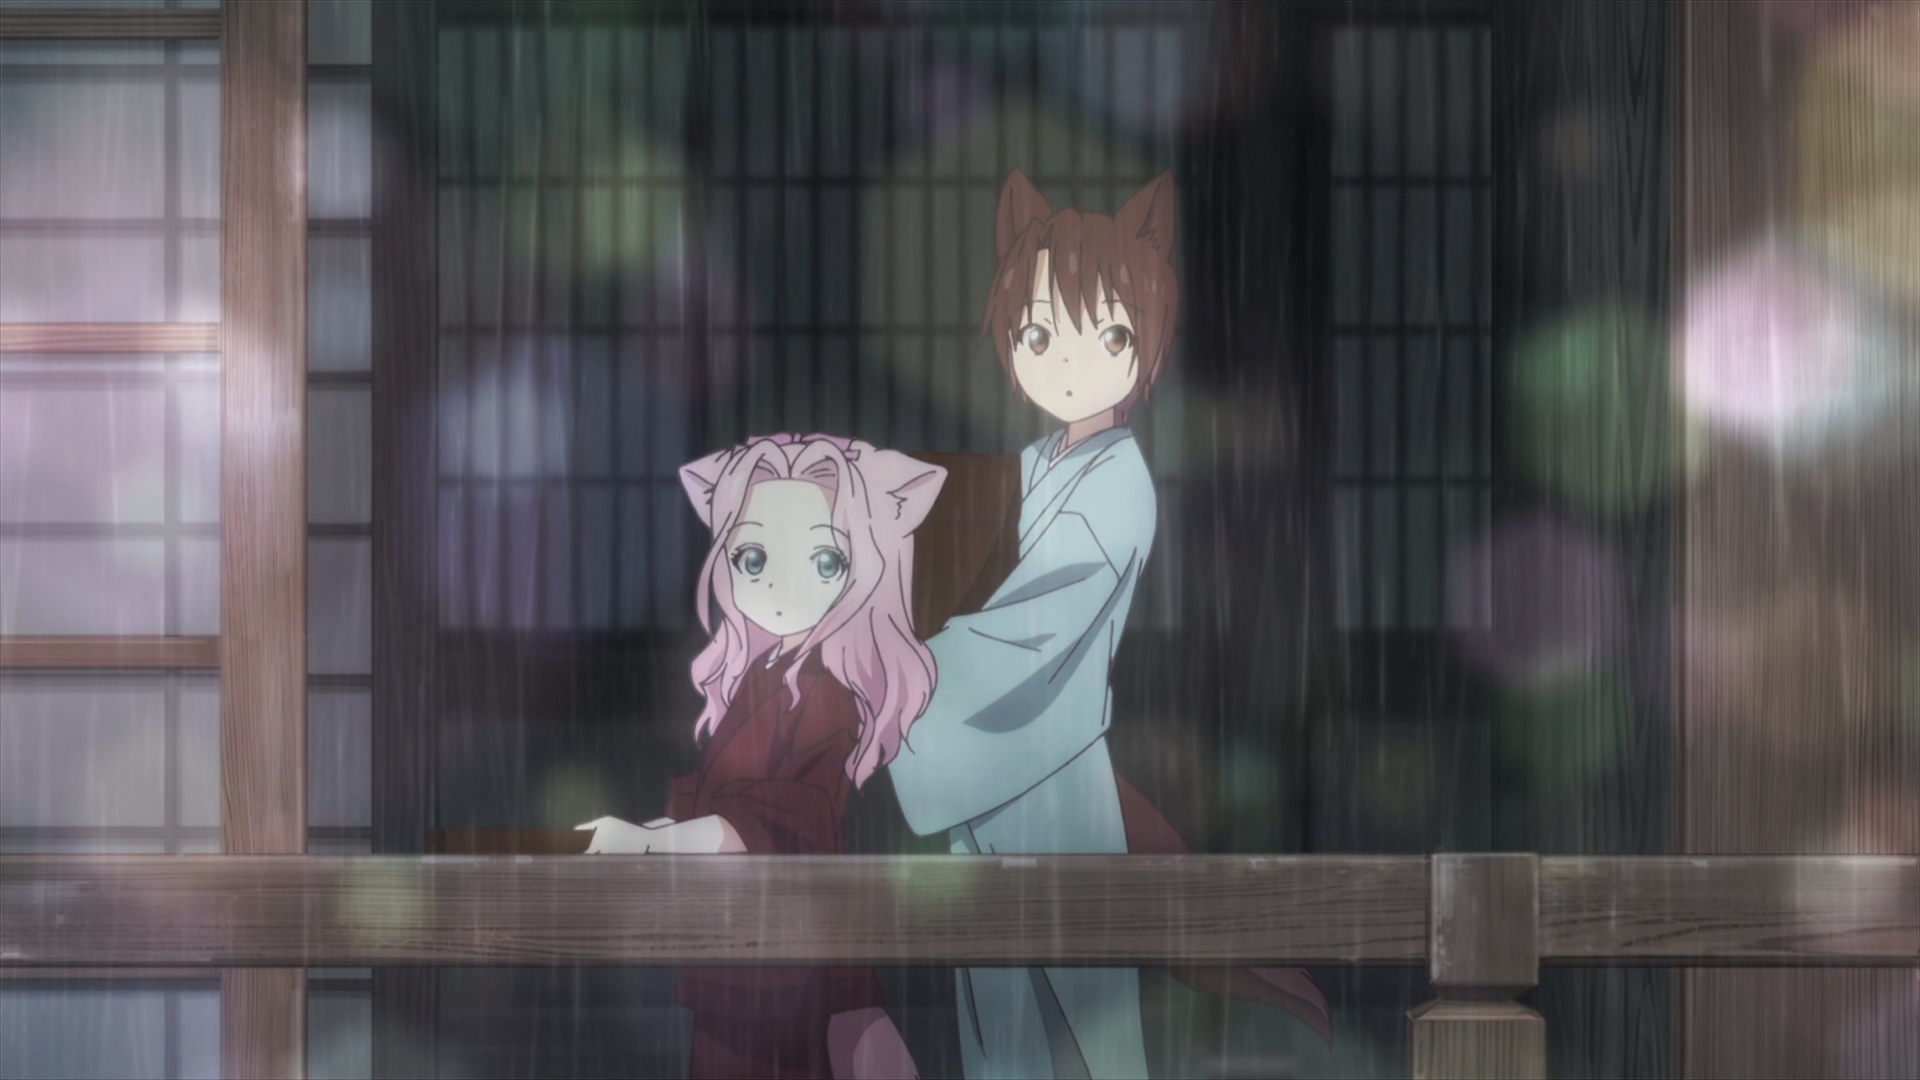枣: (885, 165, 1185, 1080)
莲: (576, 431, 945, 1080)
